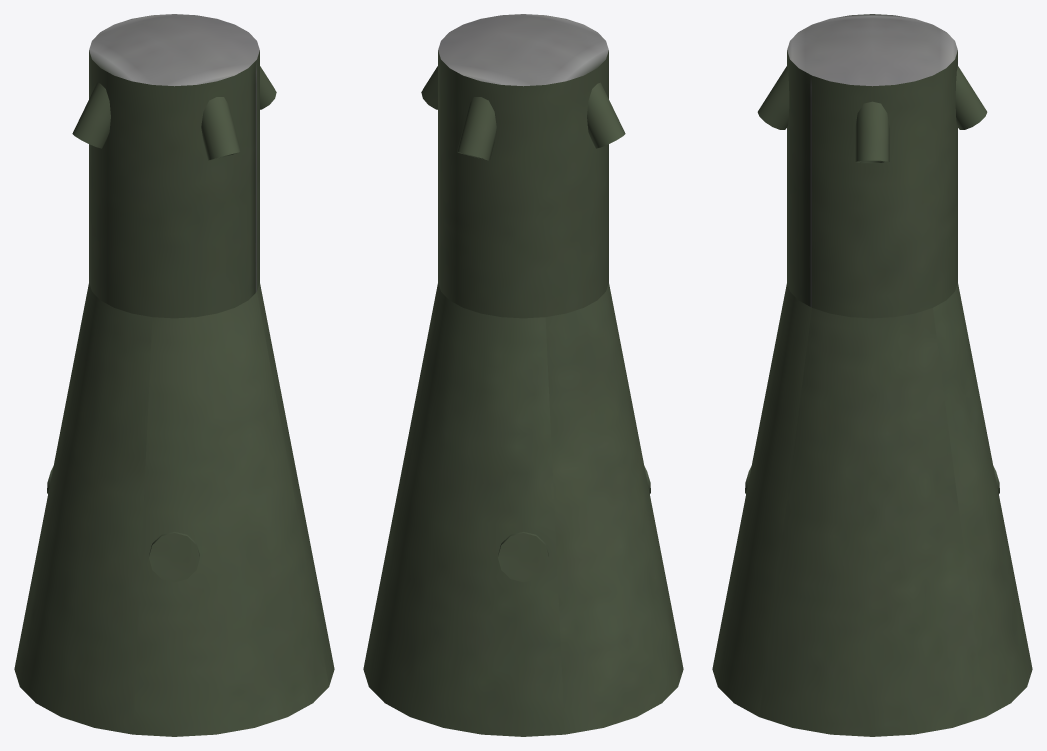
Rendered from engine.fbx.
3 renders of one model, left to right at view 1: azimuth 30°, elevation 25°; view 2: azimuth 150°, elevation 25°; view 3: azimuth 270°, elevation 25°, orthographic.
Parts seen in each view (by area): view 1: mesh; view 2: mesh; view 3: mesh.
Boxes of the visible parts, box(x1,y1,x2,y2) form: mesh: box(14, 14, 334, 736); mesh: box(363, 14, 683, 736); mesh: box(712, 14, 1032, 736).
Bounding box in the file's own units: 0.9375 × 2.04 × 0.9375.
